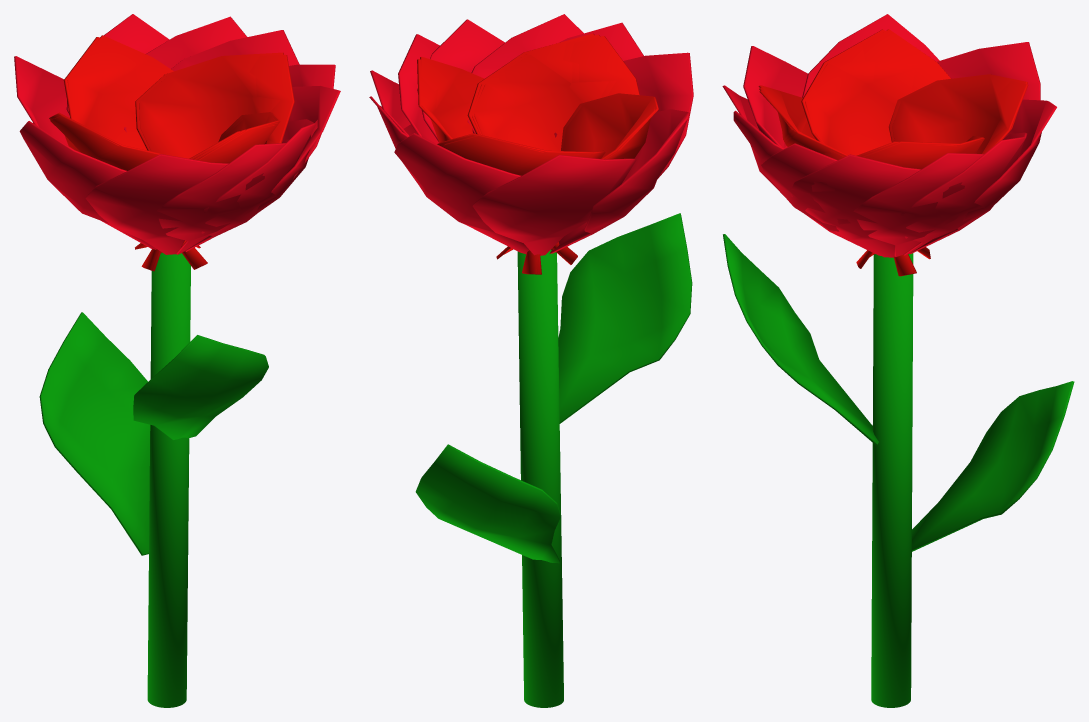
File: Flower.fbx
3 views of the same model, side by side, from view 1: azimuth 30°, elevation 25°; view 2: azimuth 150°, elevation 25°; view 3: azimuth 270°, elevation 25° (orthographic).
Visible parts, largest first — view 1: Flower.001, Flower, Leaf1, FlowerStalk, Leaf2; view 2: Flower.001, Flower, Leaf2, FlowerStalk, Leaf1; view 3: Flower.001, Flower, FlowerStalk, Leaf1, Leaf2.
Part boxes in pixels (left/top/right/bottom): Flower.001: left=14, top=14, right=340, bottom=254; Flower: left=49, top=35, right=294, bottom=271; Leaf1: left=39, top=312, right=150, bottom=555; FlowerStalk: left=147, top=252, right=190, bottom=707; Leaf2: left=133, top=335, right=268, bottom=439; Flower.001: left=369, top=14, right=693, bottom=255; Flower: left=417, top=33, right=658, bottom=274; Leaf2: left=558, top=213, right=692, bottom=423; FlowerStalk: left=517, top=249, right=563, bottom=707; Leaf1: left=415, top=444, right=560, bottom=563; Flower.001: left=722, top=14, right=1056, bottom=257; Flower: left=758, top=29, right=1028, bottom=276; FlowerStalk: left=871, top=253, right=913, bottom=707; Leaf1: left=912, top=381, right=1074, bottom=551; Leaf2: left=723, top=234, right=878, bottom=445.
Bounding box in the file's own units: 136 × 275 × 142.
